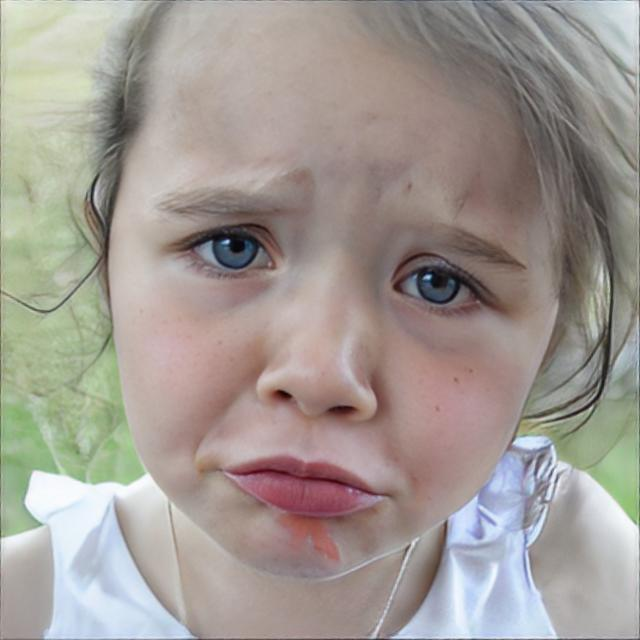sad: (106, 1, 567, 584)
